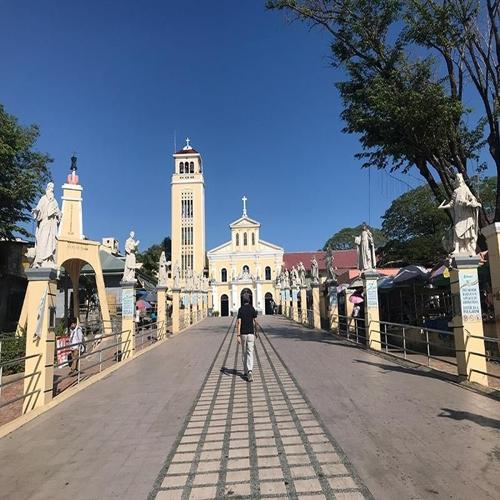Manaoag Church: (161, 127, 285, 322)
